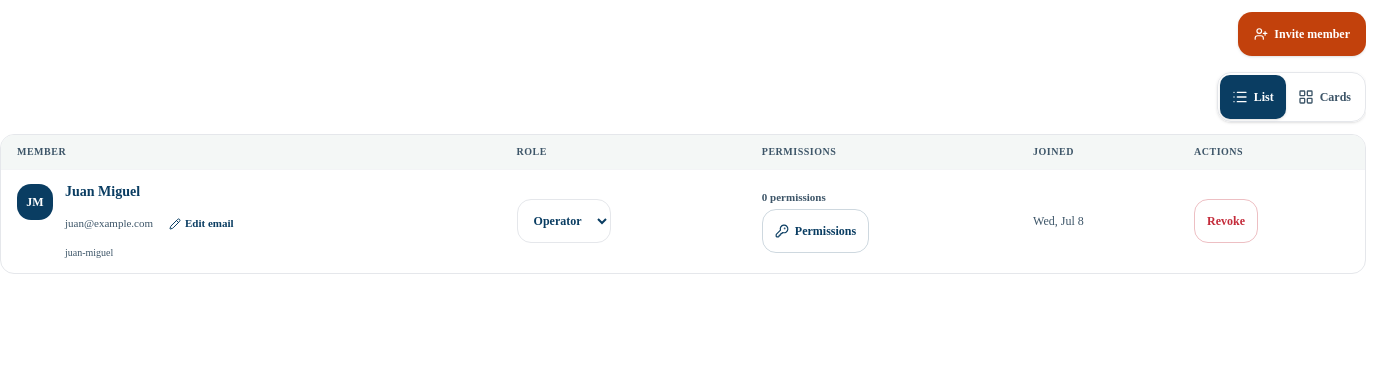
members table contact email (#449) › shows the server refusal and keeps the editor open
Click the button with aria-label "Edit email for Juan Miguel" at (201, 224), box [161,202,242,246]
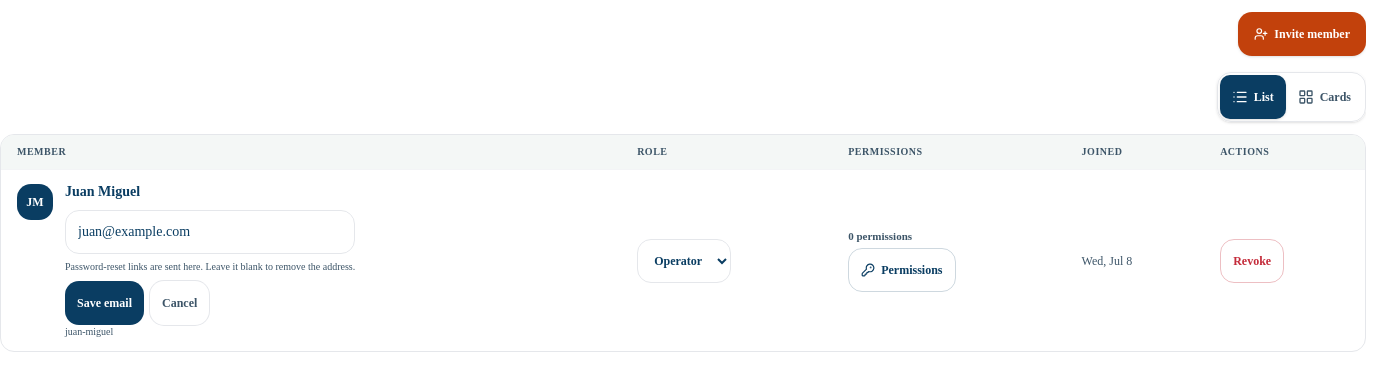
Click the button "Save email" at (104, 303), box [65,281,144,325]
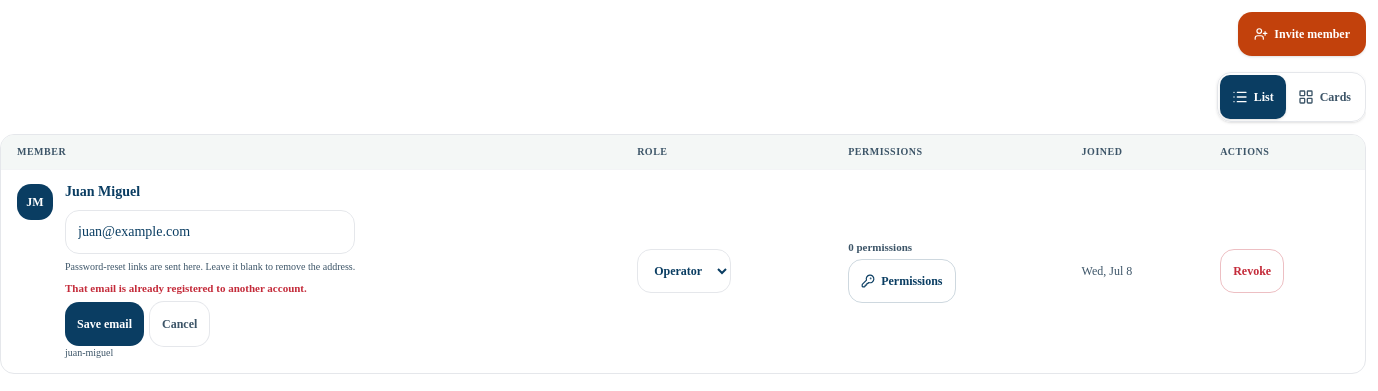
Expected: the field named "Email for Juan Miguel" is shown, [65,210,355,254]
Expected: the message reads "That email is already registered to another account.", [65,282,307,294]
